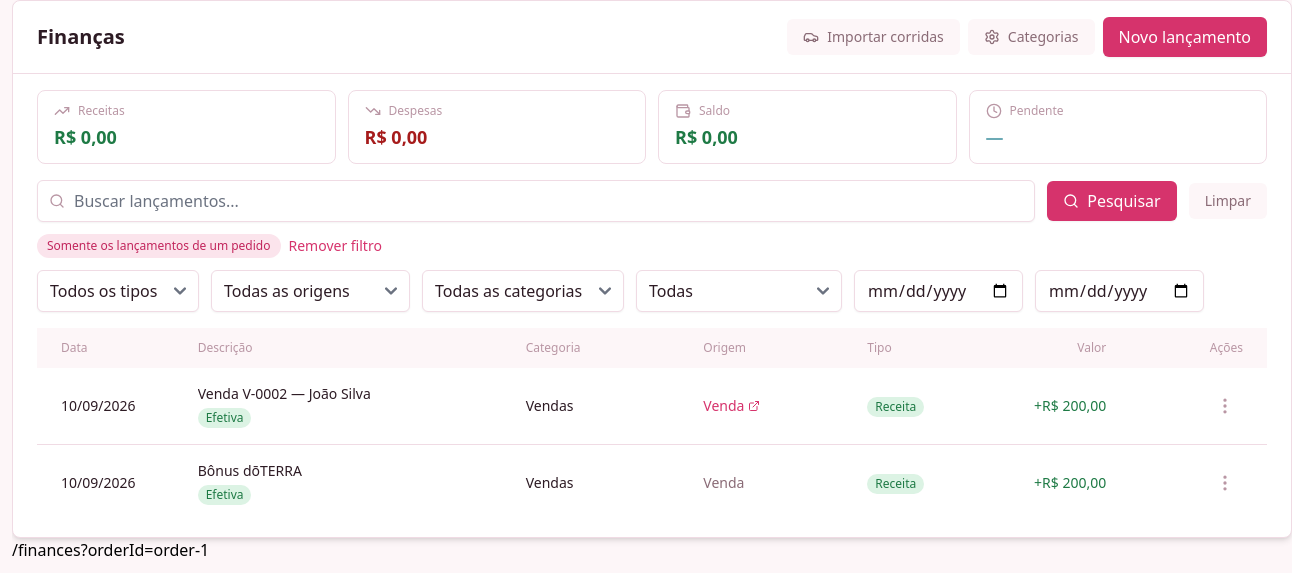
Finances deep links › orderId filter › drops the orderId filter through the chip button
This screenshot has width=1292, height=573.
Expected: the text "Venda V-0002 — João Silva" is shown, x1=198 y1=384 x2=371 y2=403
Click the button with test id "finances-order-filter-clear".
click(335, 246)  # box x1=288 y1=236 x2=382 y2=256
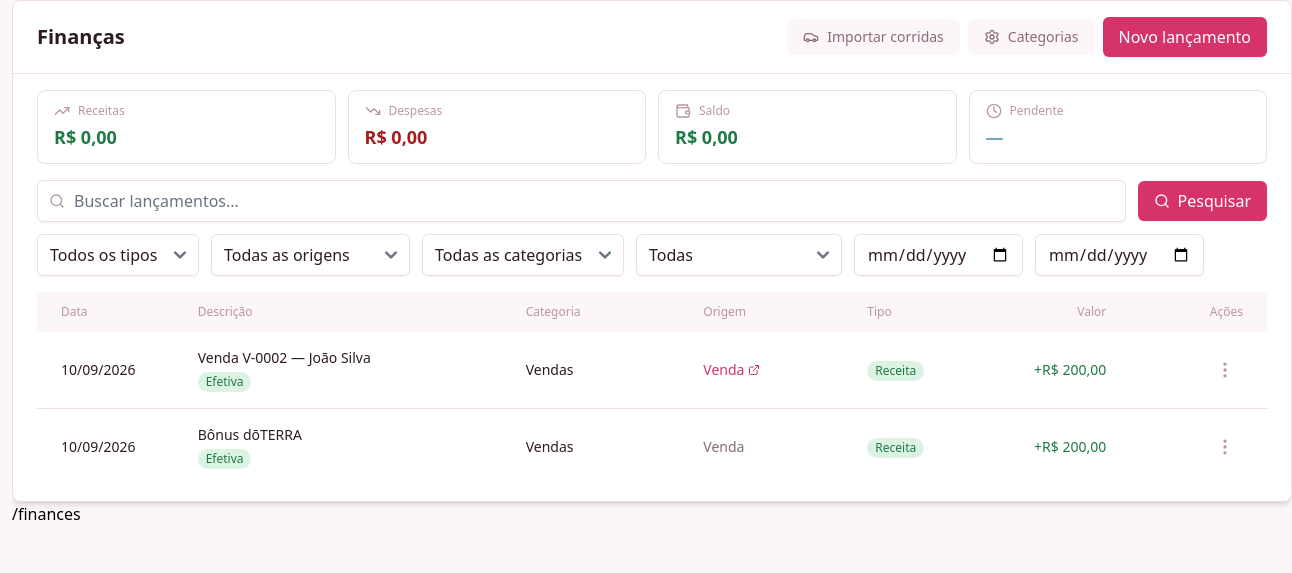
Expected: the text "Bônus dōTERRA" is shown, x1=198 y1=425 x2=302 y2=444
Now the element with test id "finances-order-filter" is gone
Now the text with test id "route-probe" reads "/finances", box x1=12 y1=503 x2=81 y2=525
